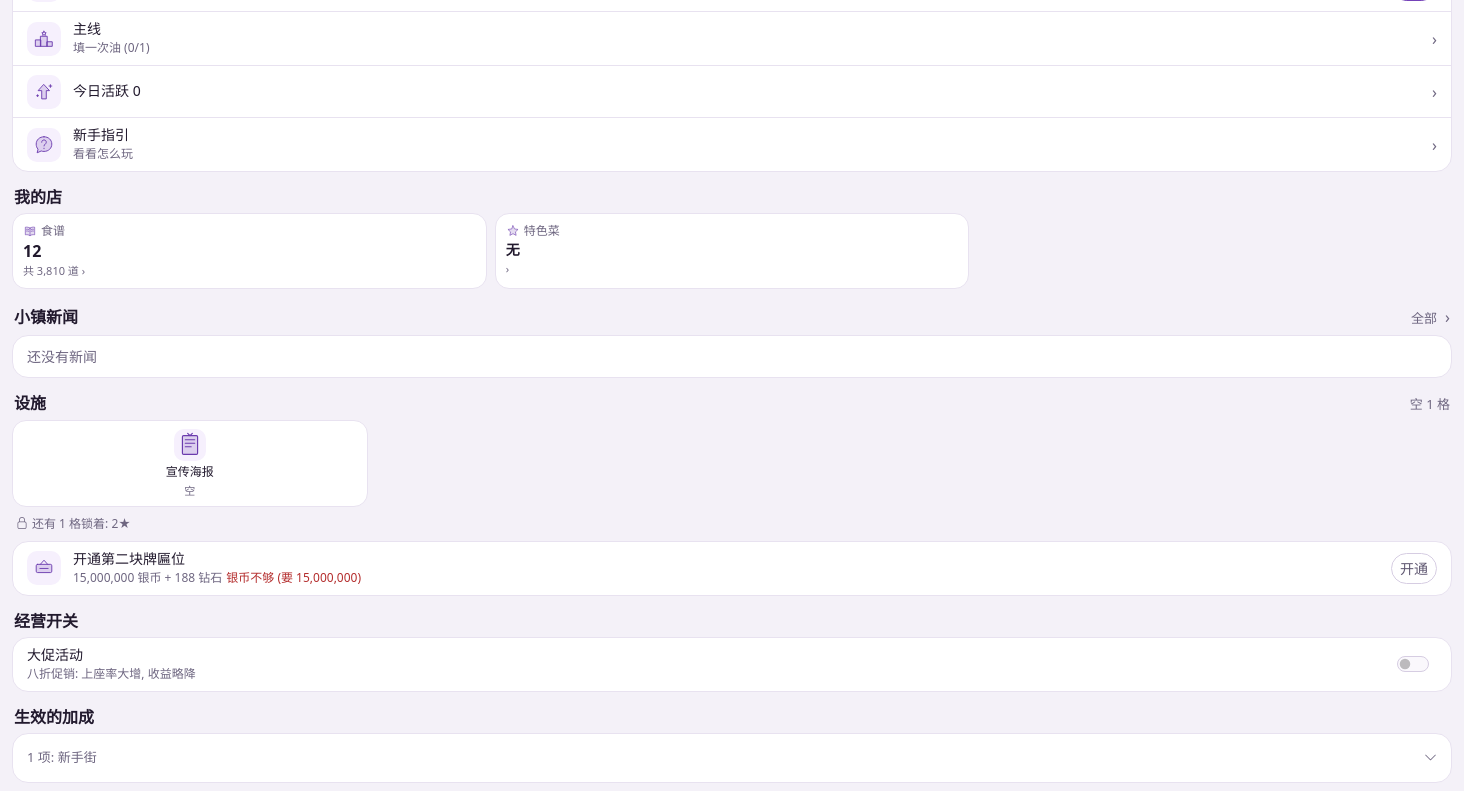
it: RestaurantHomeView › 设施选择：星级不够的高档海报变灰并写几星可用（backlog 146）
The image size is (1464, 791).
(page scrolled)
Click the button with test id "slot-1": (190, 463) [12,420,368,507]
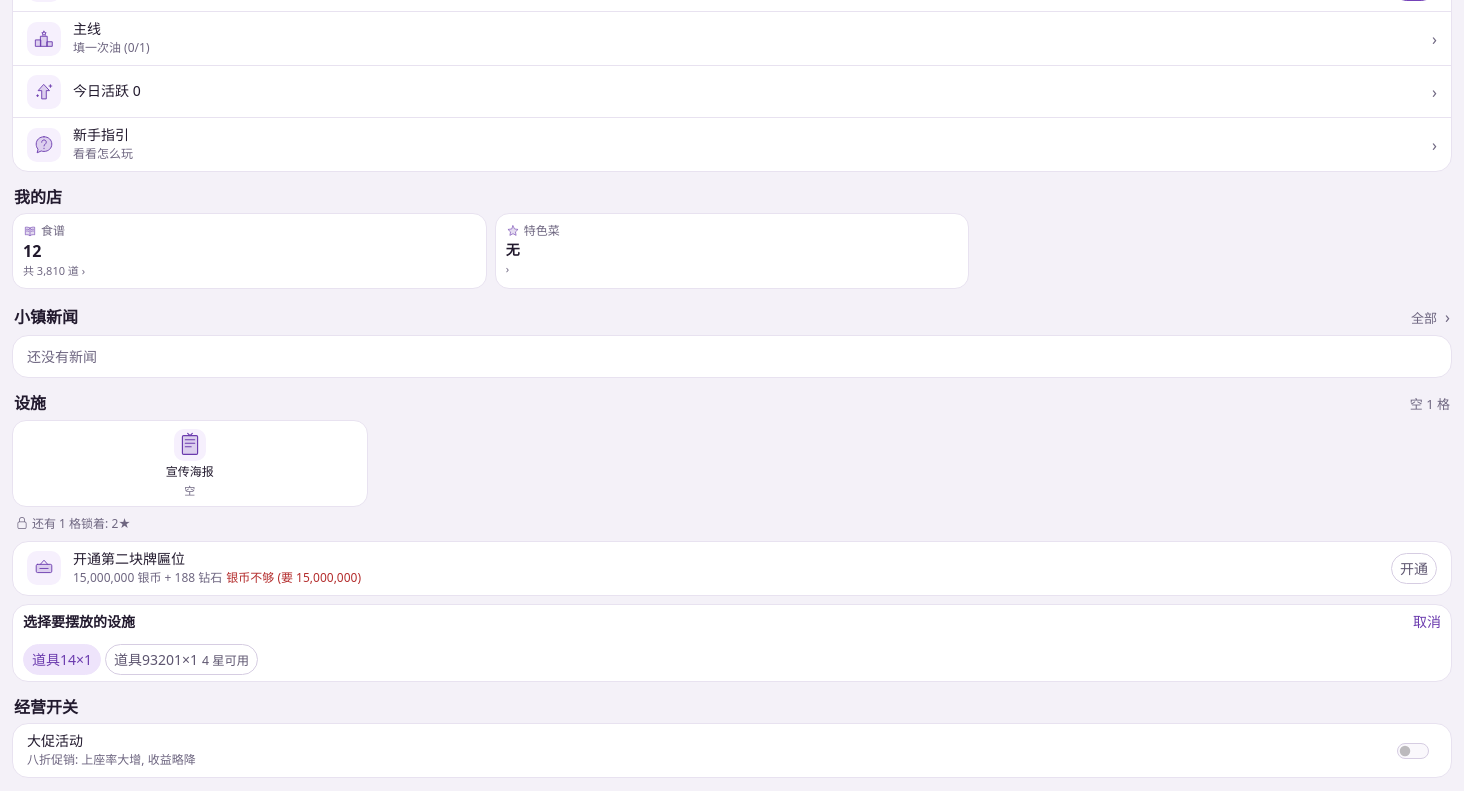
Expected: the button with test id "choice-93201" is disabled, [105,644,258,675]
Expected: the button with test id "choice-93201" shows "4 星可用", [105,644,258,675]
Expected: the button with test id "choice-14" is enabled, [23,644,101,675]
